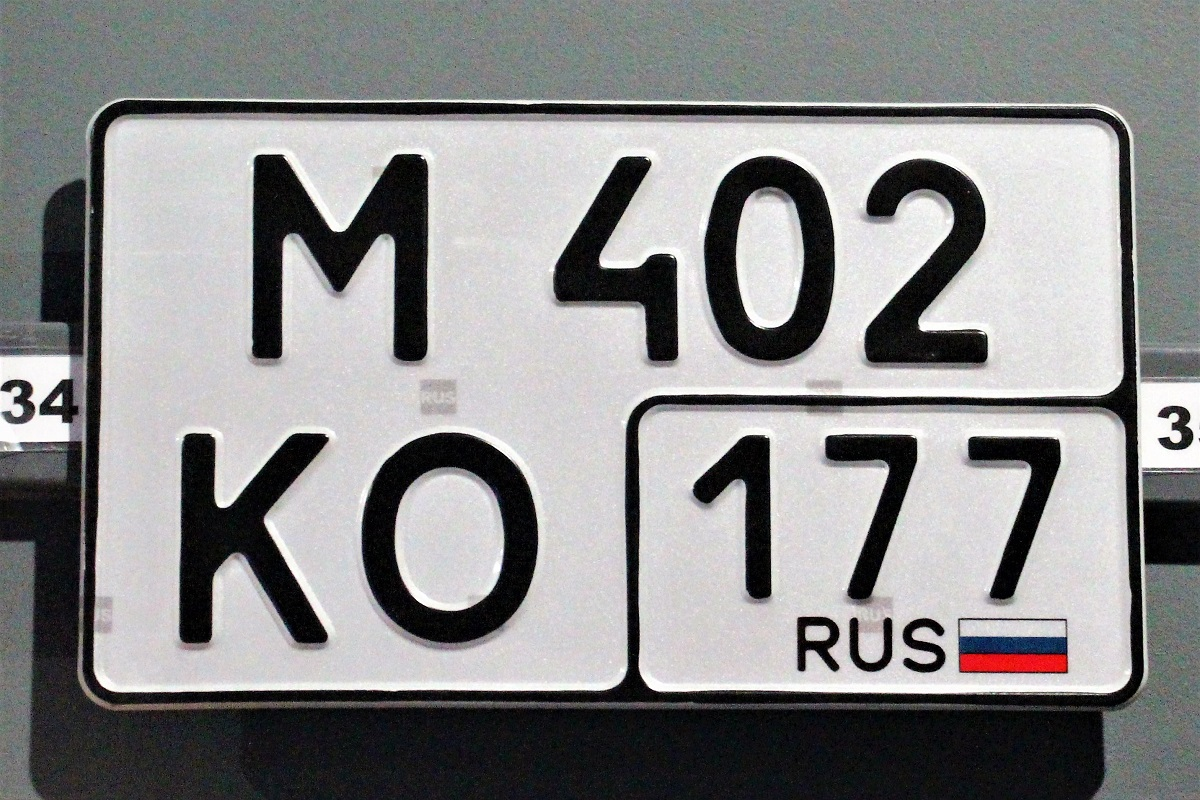number_plate: (98, 109, 1134, 690)
